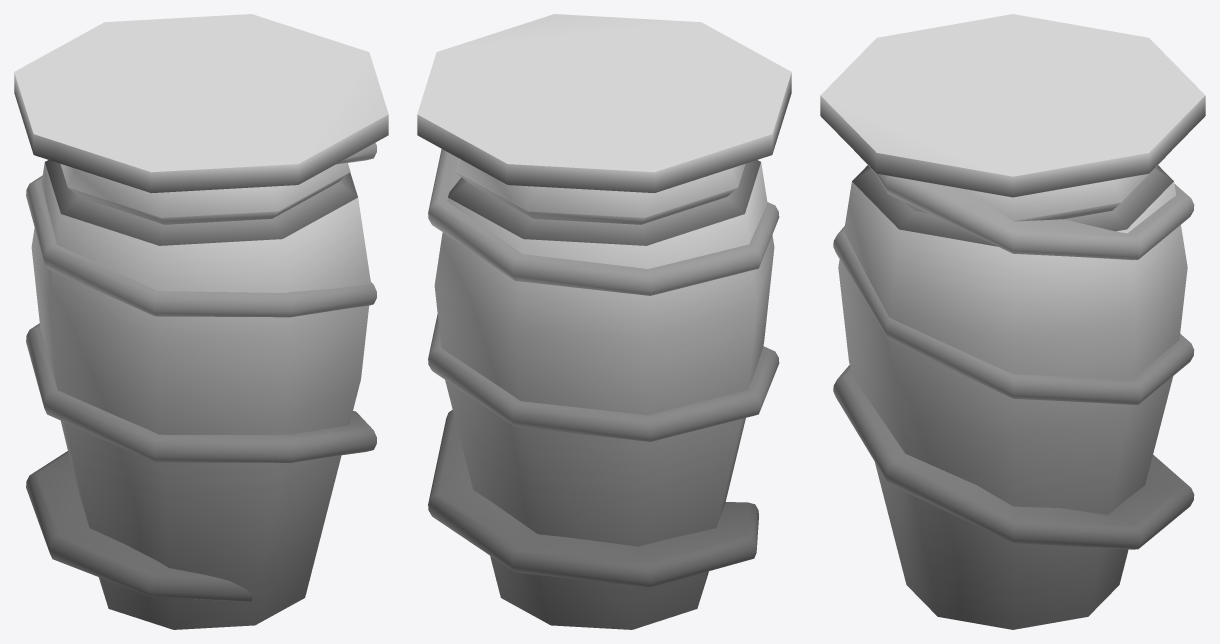
Rendered from stone_grip_061.glb.
3 renders of one model, left to right at view 1: azimuth 30°, elevation 25°; view 2: azimuth 150°, elevation 25°; view 3: azimuth 270°, elevation 25°, orthographic.
Parts seen in each view (by area): view 1: stone_grip.061; view 2: stone_grip.061; view 3: stone_grip.061.
Boxes of the visible parts, <box> form: stone_grip.061: <box>14,14,388,629</box>; stone_grip.061: <box>417,14,791,629</box>; stone_grip.061: <box>820,14,1205,629</box>.
Size of the model in its own units: 2.25 by 3.15 by 2.25.
Materials: 1 (1 with a texture image).
